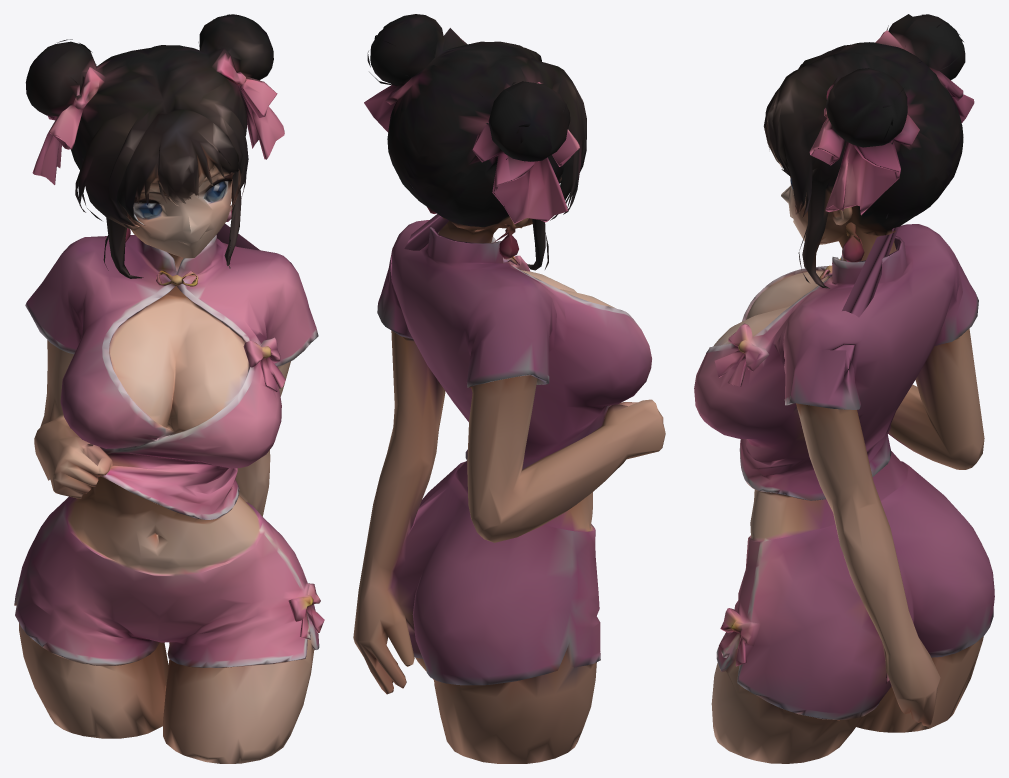
File: 01a1acea-8310-771c-b06b-d73e2cd93158.glb
3 renders of one model, left to right at view 1: azimuth 30°, elevation 25°; view 2: azimuth 150°, elevation 25°; view 3: azimuth 270°, elevation 25°, orthographic.
Visible parts, largest first — view 1: node_0; view 2: node_0; view 3: node_0.
Part boxes in pixels (bbox=[...]): node_0: bbox=[14, 14, 324, 763]; node_0: bbox=[353, 14, 665, 763]; node_0: bbox=[694, 14, 994, 763].
Bounding box in the file's own units: 0.4665 × 1.13 × 0.4465.
